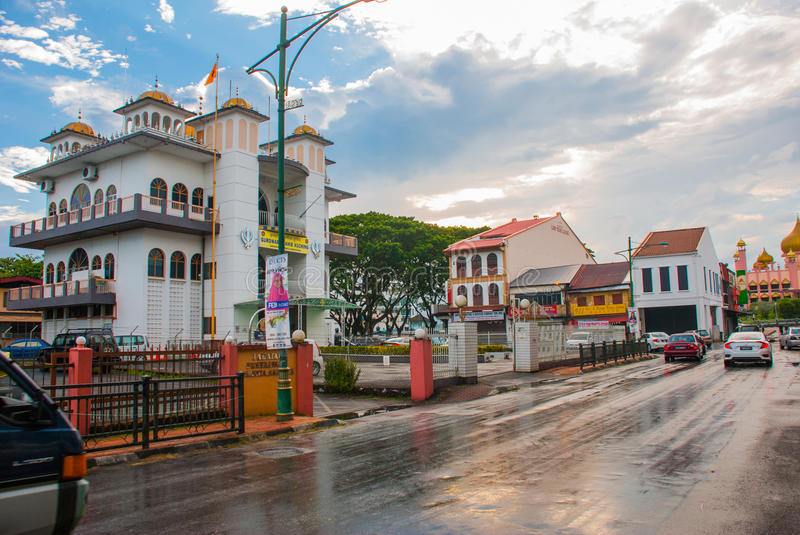Gurdwara: (27, 69, 337, 352)
